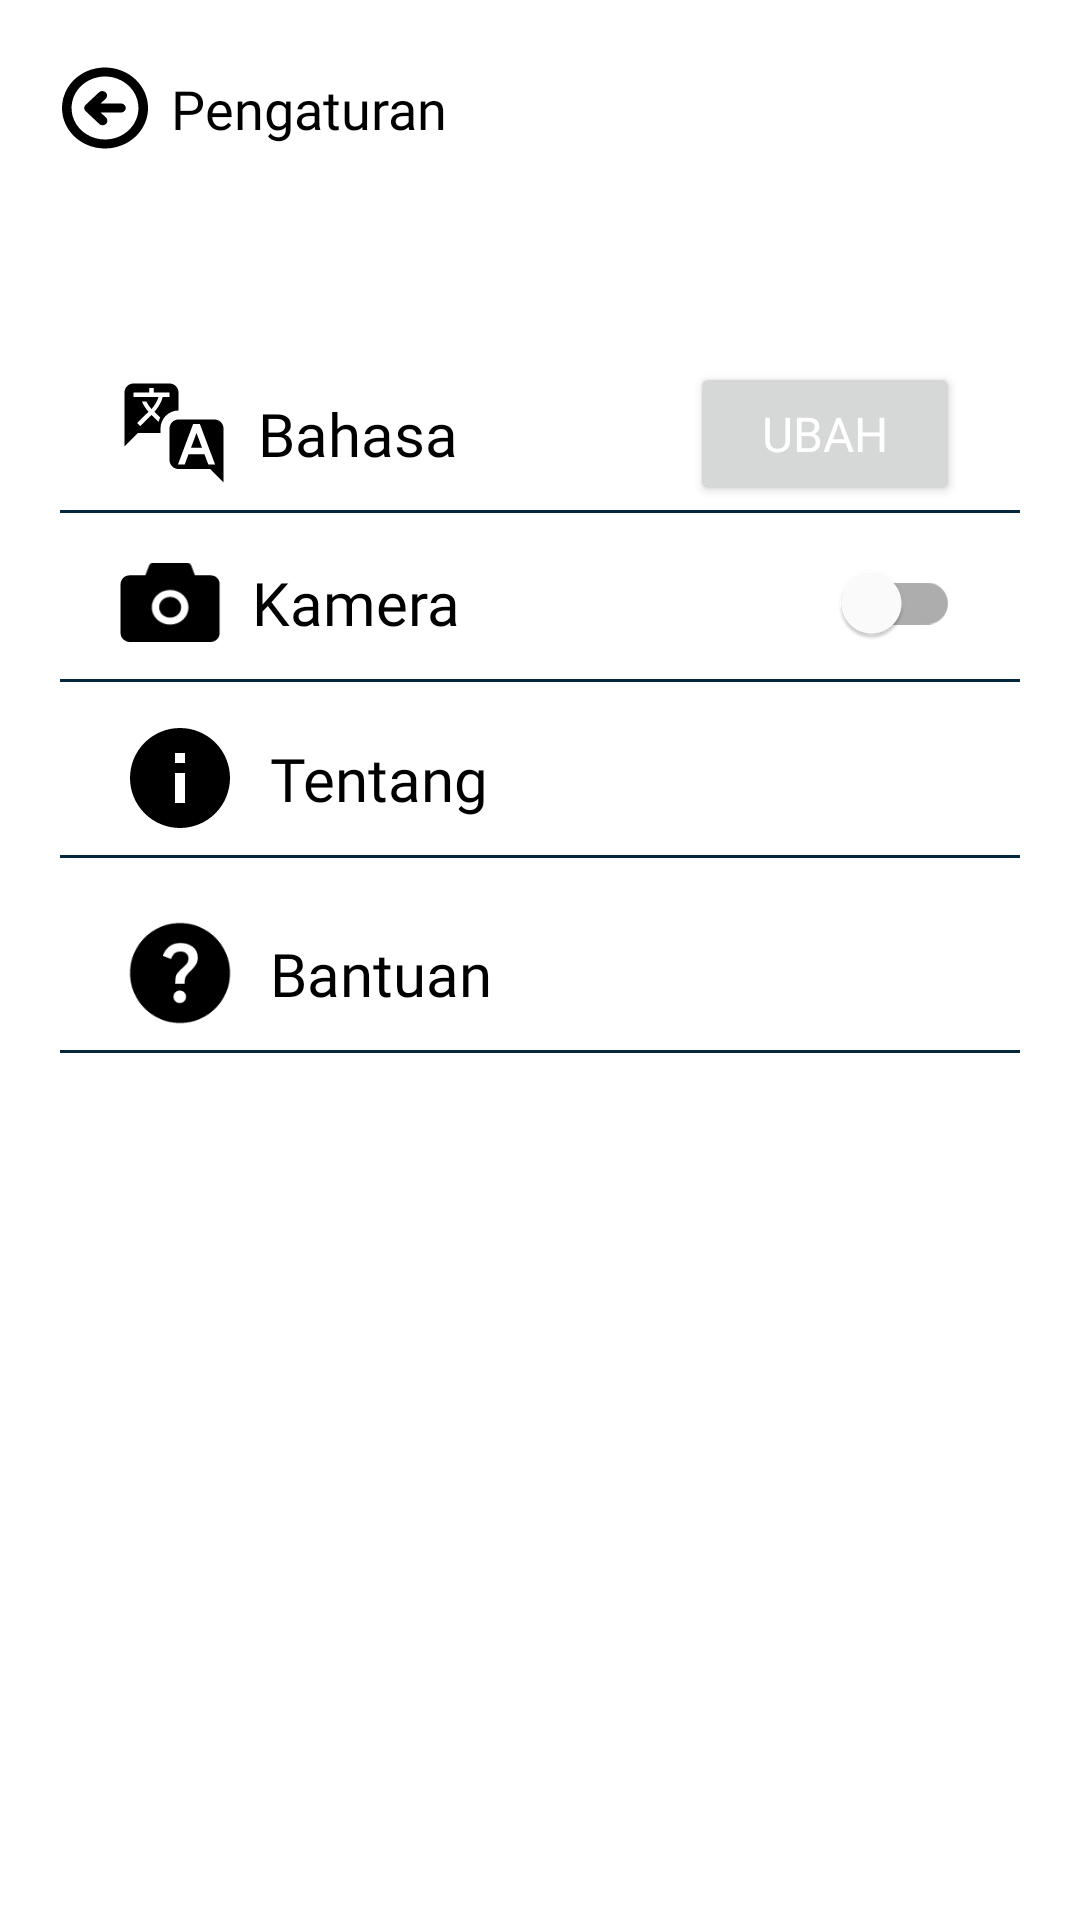

Screen size 1080×1920. Icon name, then its box in pixels as (x1, y1, x2, y2):
about: (130, 728, 230, 828)
arrow circle left: (62, 67, 148, 149)
camera: (120, 563, 220, 642)
